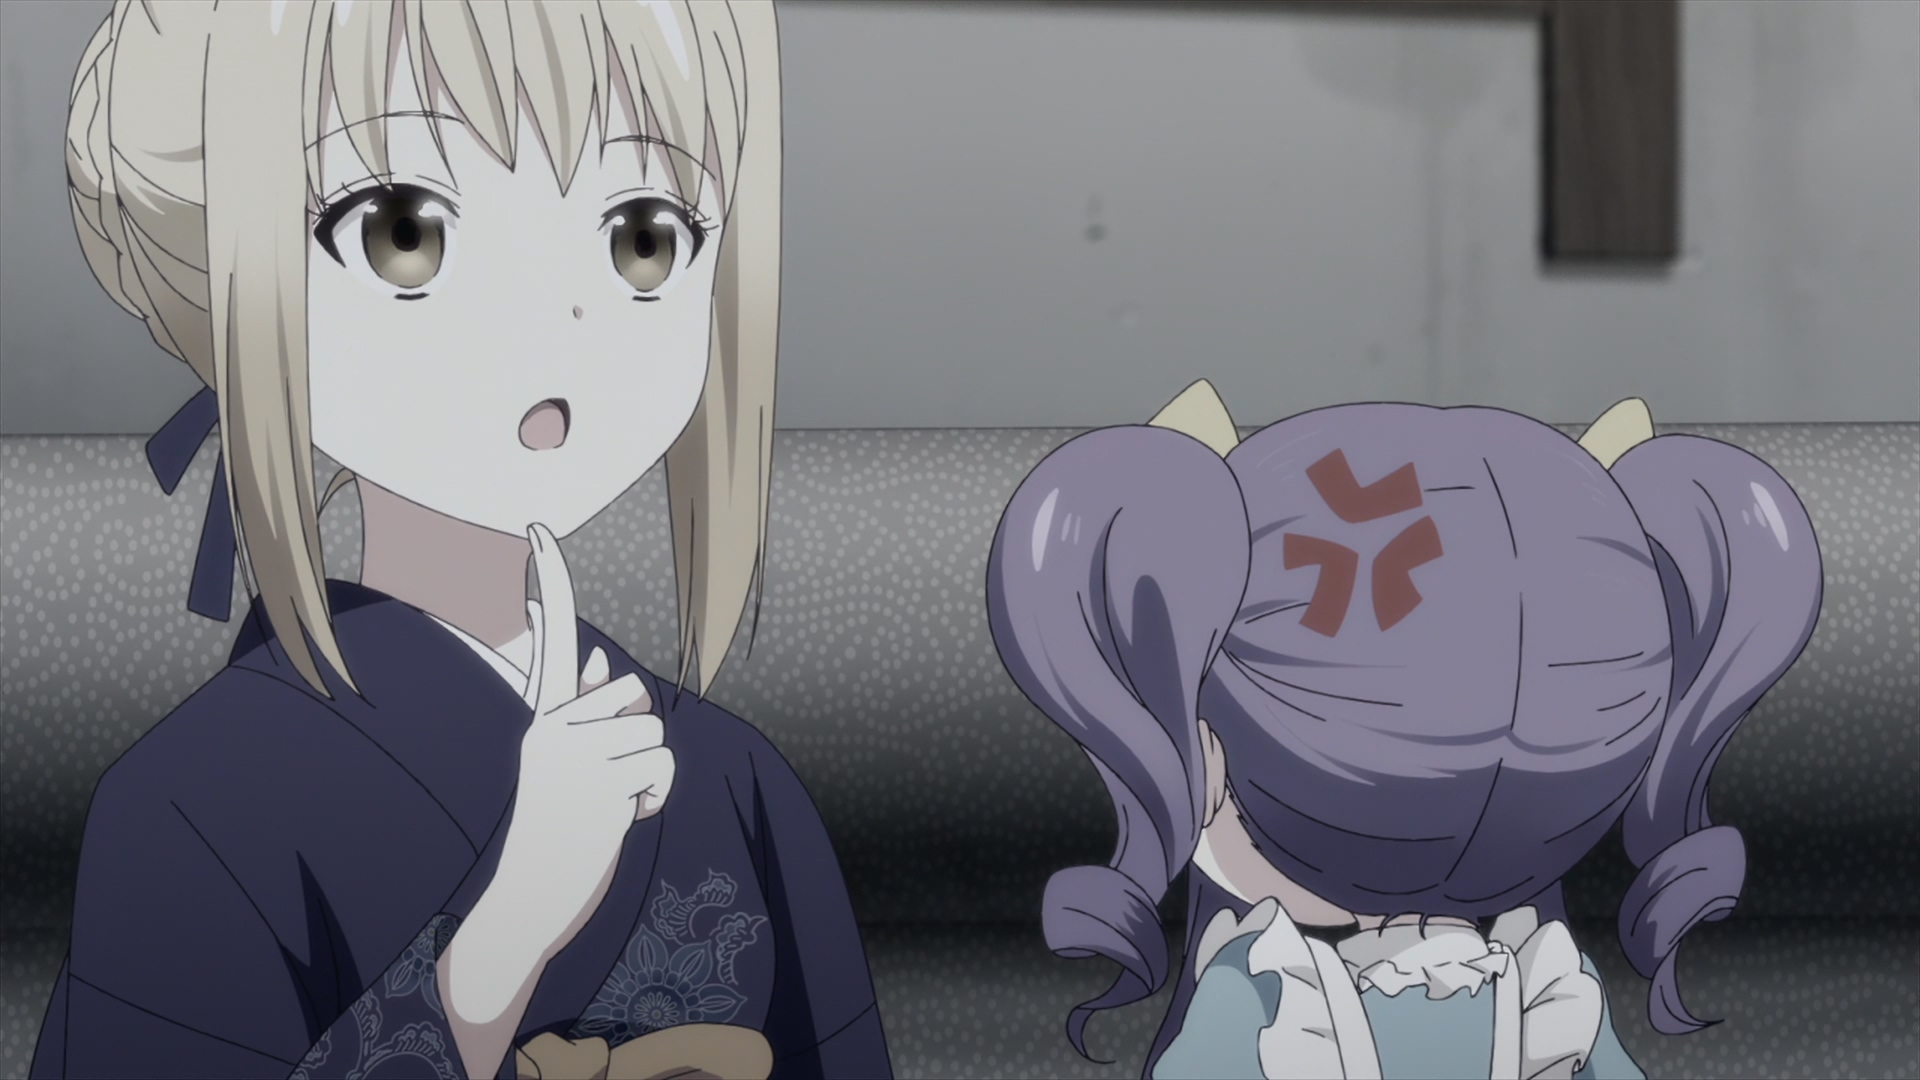桐: (29, 1, 891, 1080)
阿菊: (985, 378, 1826, 1080)
